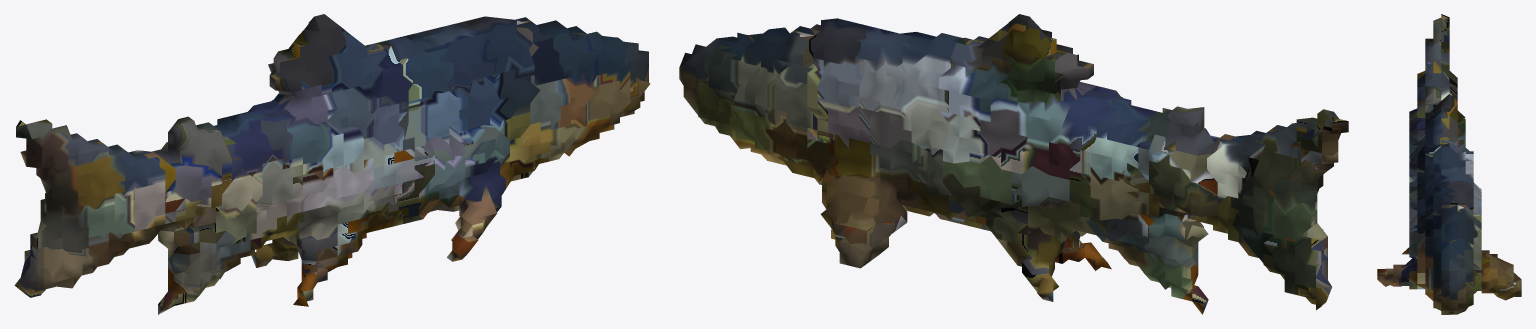
Rendered from simplified_fish.glb.
The picture shows the model from 3 angles, left to right: view 1: azimuth 30°, elevation 25°; view 2: azimuth 150°, elevation 25°; view 3: azimuth 270°, elevation 25°; orthographic projection. The views are drawn at different scales.
Parts seen in each view (by area): view 1: Mesh1; view 2: Mesh1; view 3: Mesh1.
Part boxes in pixels (left/top/right/bottom): Mesh1: left=14, top=14, right=650, bottom=314; Mesh1: left=679, top=14, right=1348, bottom=314; Mesh1: left=1377, top=14, right=1521, bottom=314.
Bounding box in the file's own units: 1.2 × 0.4571 × 0.3429.
1 material, 1 textured.
